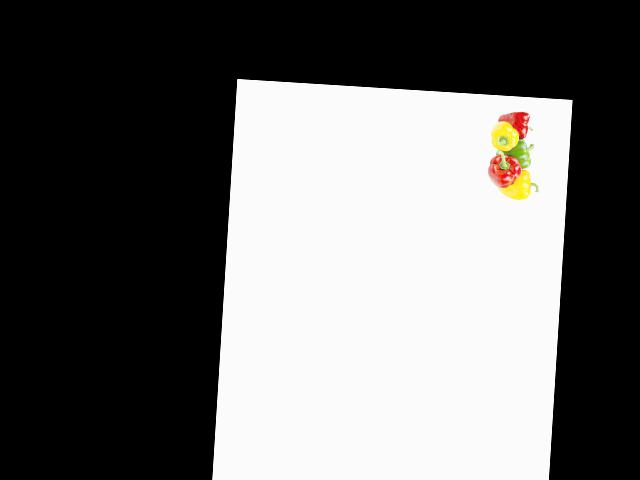bell_pepper: (501, 108, 535, 139)
